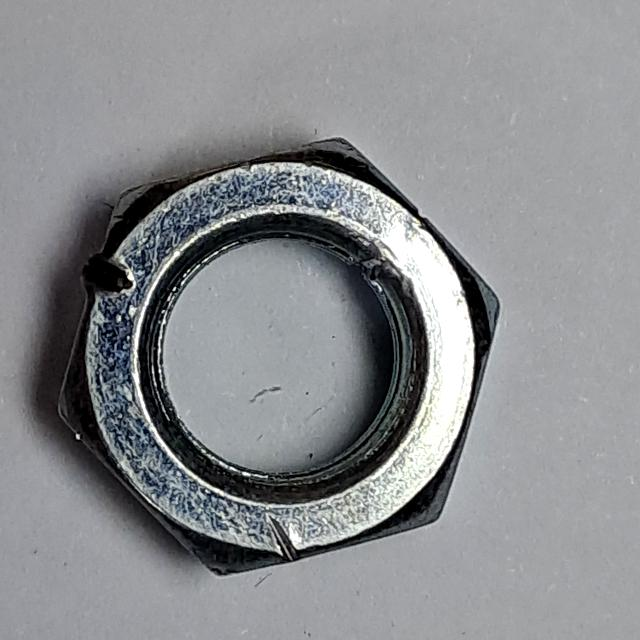Scratches: (44, 121, 519, 601)
